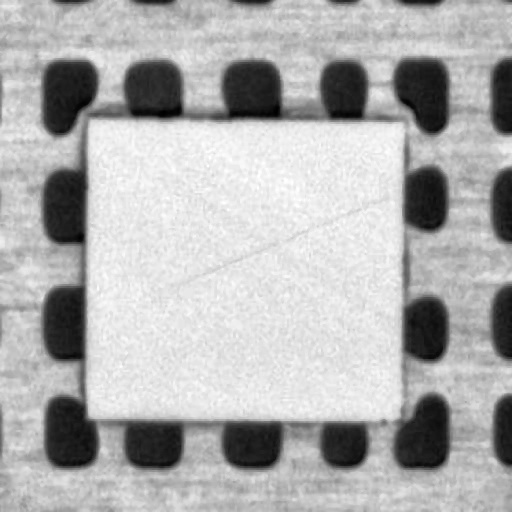DIE_CRACK: (228, 147, 512, 214)
